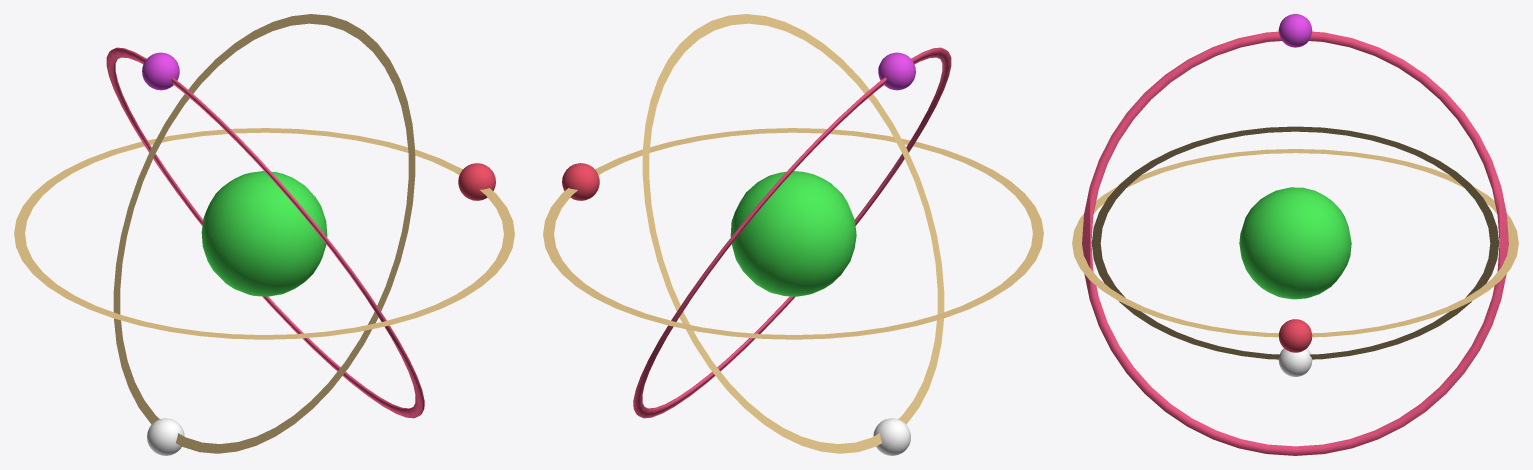
File: atom.glb
The picture shows the model from 3 angles, left to right: view 1: azimuth 30°, elevation 25°; view 2: azimuth 150°, elevation 25°; view 3: azimuth 270°, elevation 25°; orthographic projection. The views are drawn at different scales.
Parts seen in each view (by area): view 1: Sphere, BezierCircle.001, BezierCircle.003, BezierCircle.002, Sphere.003, Sphere.002, Sphere.004; view 2: Sphere, BezierCircle.001, BezierCircle.003, BezierCircle.002, Sphere.003, Sphere.002, Sphere.004; view 3: BezierCircle.002, Sphere, BezierCircle.001, BezierCircle.003, Sphere.002, Sphere.003, Sphere.004.
Boxes of the visible parts, x1,y1,x2,y2 form: Sphere: (201,171,327,296); BezierCircle.001: (113,14,415,453); BezierCircle.003: (14,128,514,339); BezierCircle.002: (106,47,424,418); Sphere.003: (142,52,179,90); Sphere.002: (458,163,495,200); Sphere.004: (147,418,184,455); Sphere: (730,171,856,296); BezierCircle.001: (642,14,944,453); BezierCircle.003: (543,128,1043,339); BezierCircle.002: (633,47,951,418); Sphere.003: (878,52,915,90); Sphere.002: (562,163,599,200); Sphere.004: (873,418,910,455); BezierCircle.002: (1082,31,1508,455); Sphere: (1239,187,1351,299); BezierCircle.001: (1091,126,1499,359); BezierCircle.003: (1072,149,1518,337); Sphere.002: (1278,319,1312,352); Sphere.003: (1278,14,1312,47); Sphere.004: (1278,348,1312,376).
Bounding box in the file's own units: 8.18 × 7.03 × 7.96.
